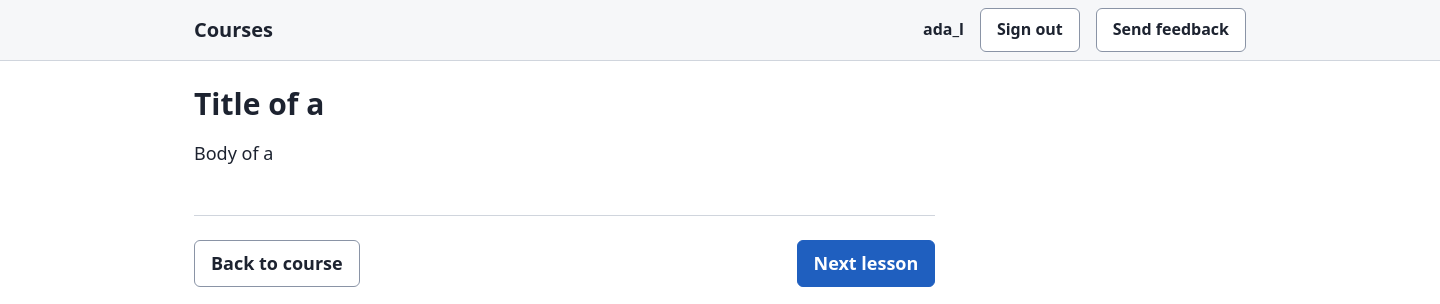
Scenario: saving the last lesson › sends one for each lesson that is shown
Expected: the text "Body of a" is shown, [194,140,273,164]
Click the link "Next lesson" at (866, 264), box [796,240,935,287]
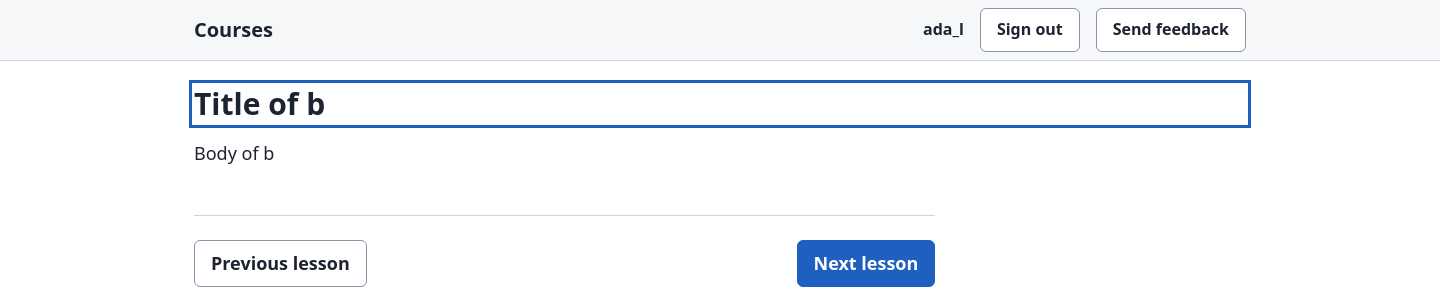
Now the text "Body of b" is shown, box [194,140,274,164]
